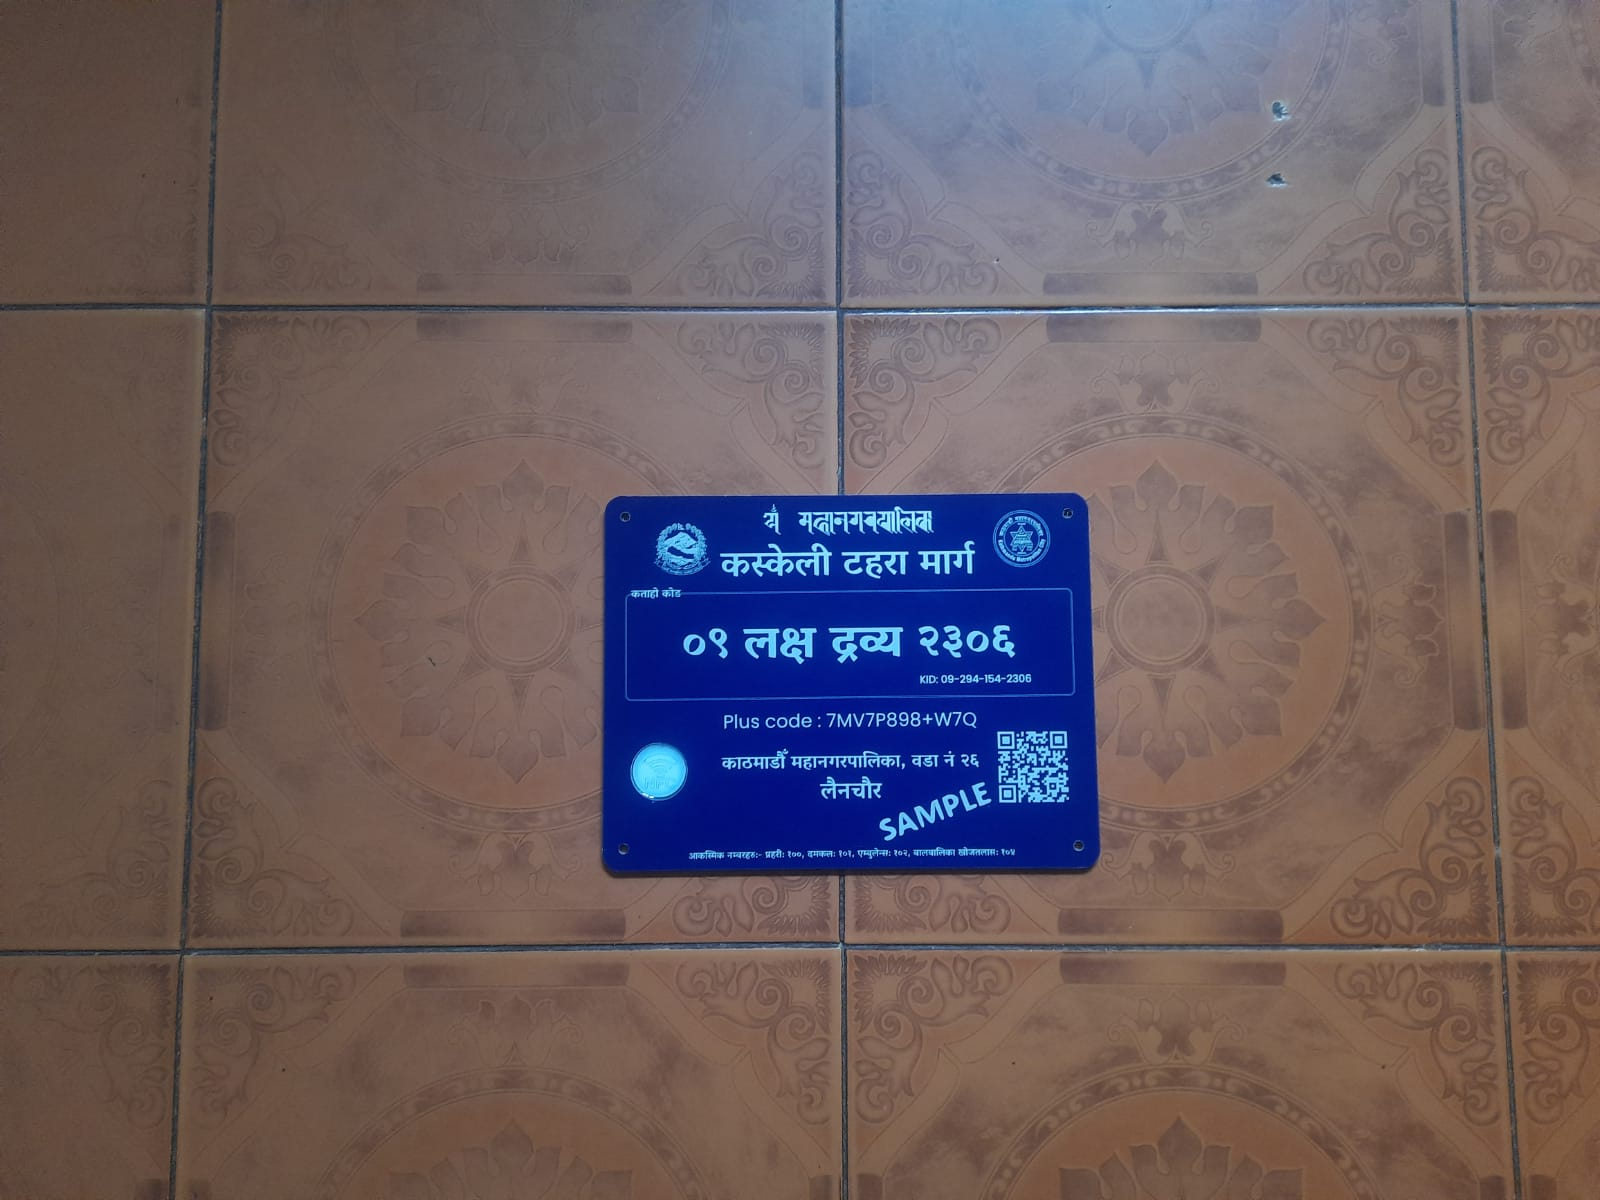Plate: (599, 489, 1103, 880)
